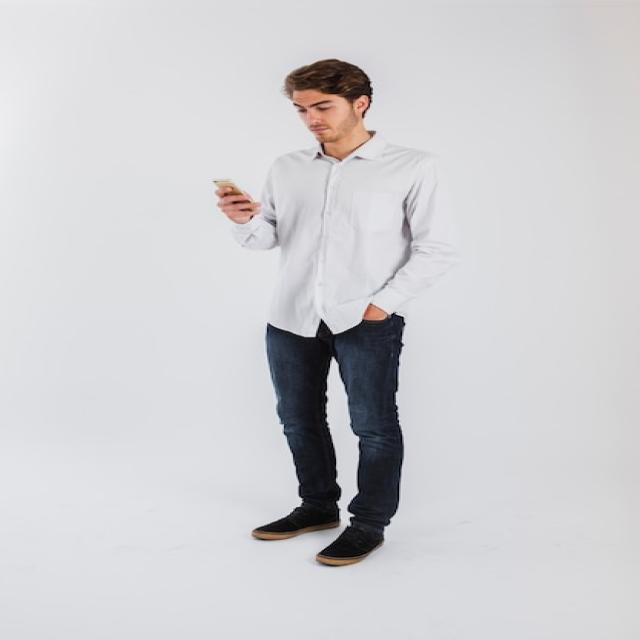Person: (211, 58, 459, 568)
